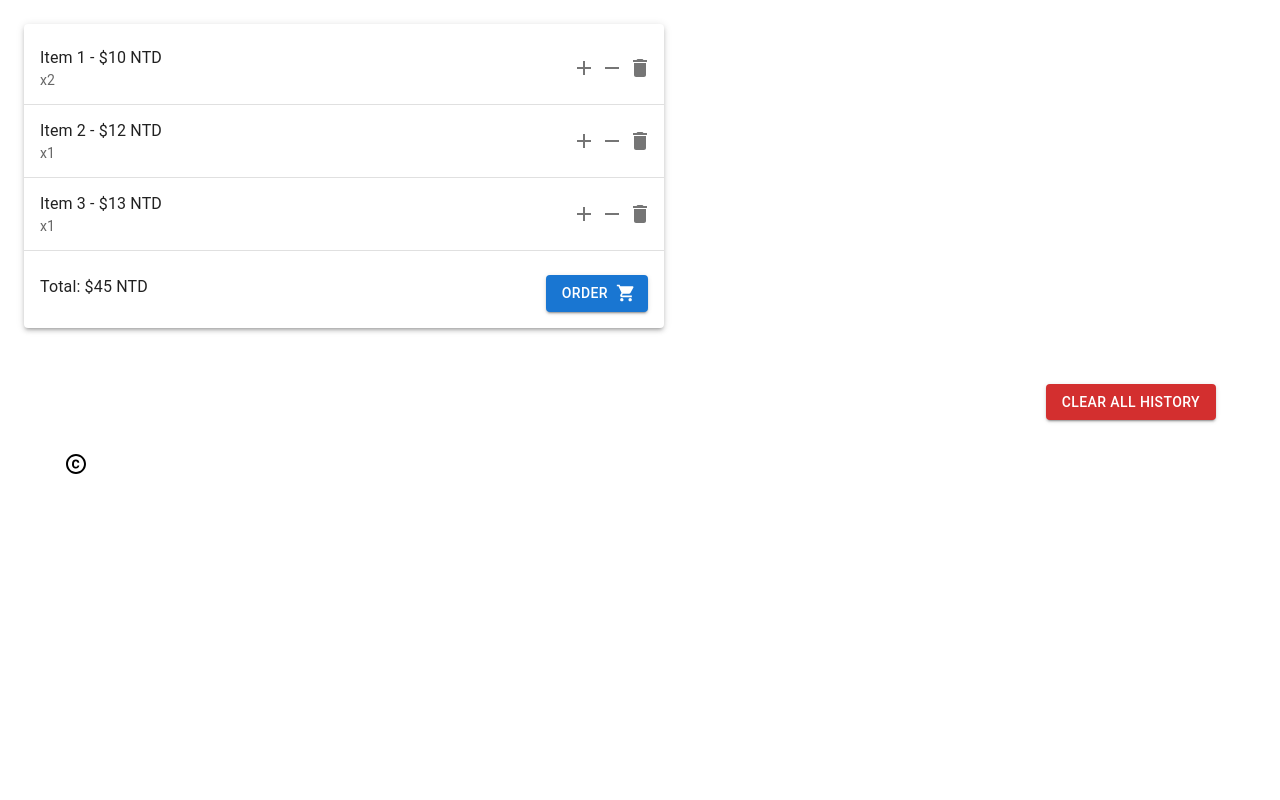
Test for HistoryPage › display order history correctly after submitting cart
This screenshot has width=1280, height=800.
Click the icon with test id "ShoppingCartIcon". click: (626, 293)
box: [616,283,636,303]
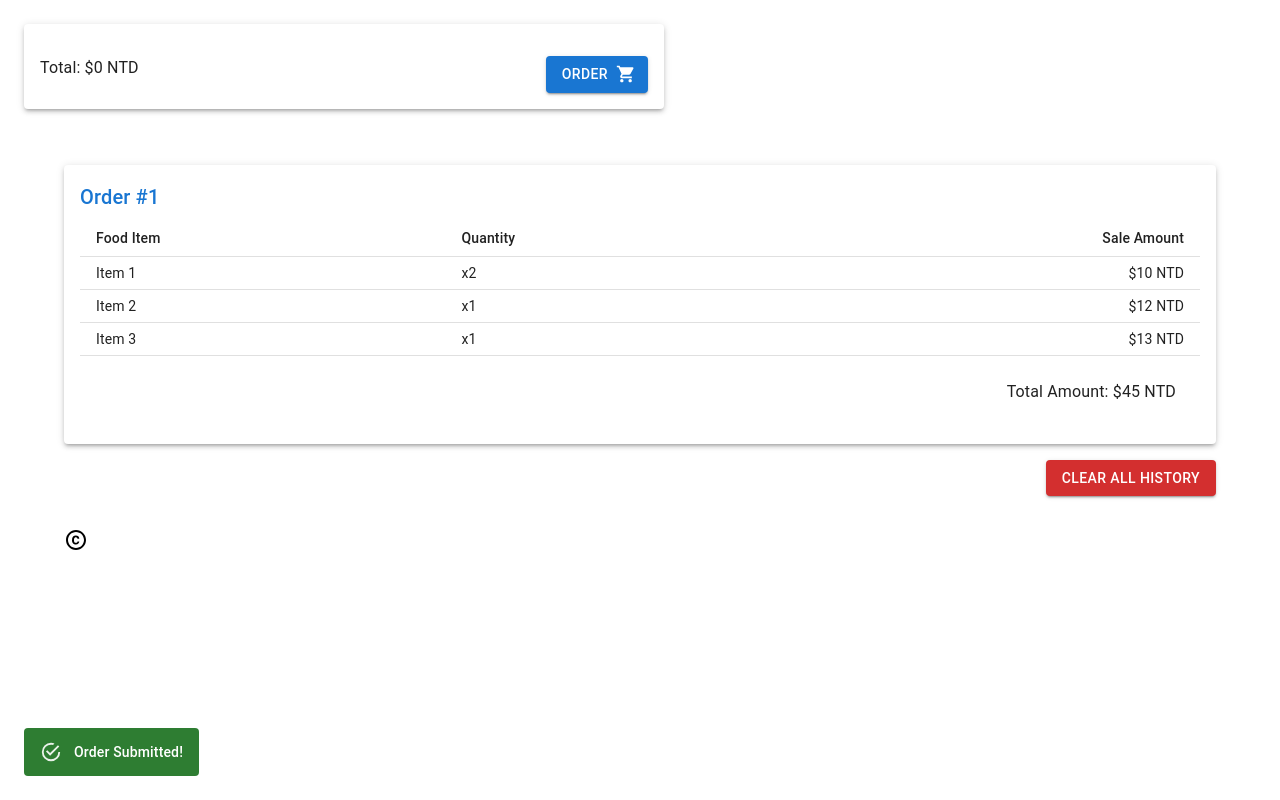
Expected: the heading "Order #1" is shown, [80,184,160,208]
Expected: the column heading "Food Item" is shown, [80,220,445,256]
Expected: the column heading "Quantity" is shown, [445,220,770,256]
